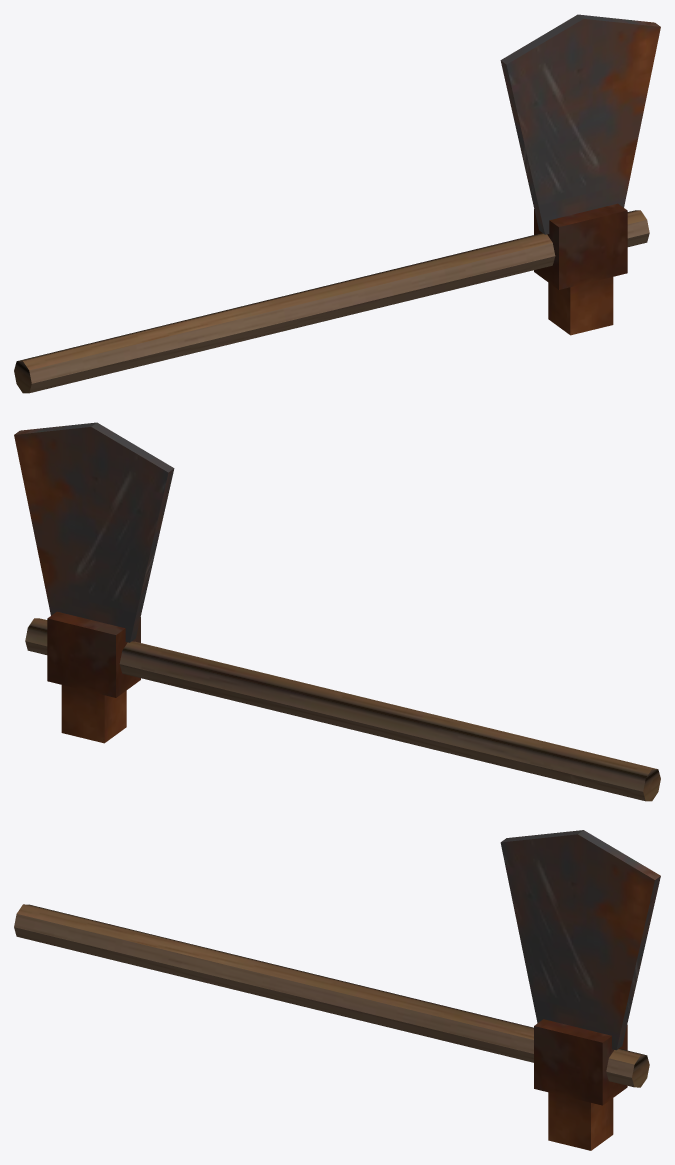
File: Axe_Old.glb
The picture shows the model from 3 angles, top to bottom: view 1: azimuth 30°, elevation 25°; view 2: azimuth 150°, elevation 25°; view 3: azimuth 330°, elevation 25°; orthographic projection.
Parts seen in each view (by area): view 1: Axe_Old; view 2: Axe_Old; view 3: Axe_Old.
Boxes of the visible parts, x1,y1,x2,y2 form: Axe_Old: (14,14,660,393); Axe_Old: (14,422,660,801); Axe_Old: (14,830,660,1150).
Size of the model in its own units: 0.74 by 0.34 by 0.05.
Materials: 3 (3 with a texture image).
